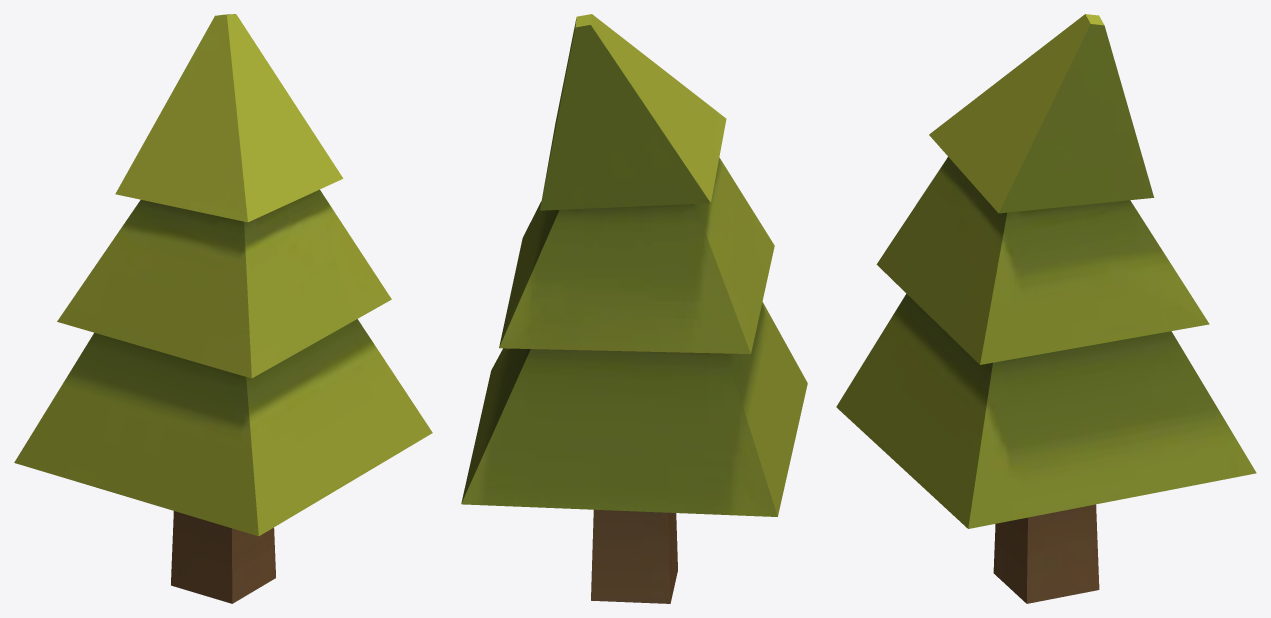
File: 7rTNpk6j01O.glb
The picture shows the model from 3 angles, left to right: view 1: azimuth 30°, elevation 25°; view 2: azimuth 150°, elevation 25°; view 3: azimuth 270°, elevation 25°; orthographic projection. The views are drawn at different scales.
Visible parts, largest first — view 1: pine_tree; view 2: pine_tree; view 3: pine_tree.
Boxes of the visible parts, left/top/right/bottom form: pine_tree: left=14, top=14, right=432, bottom=603; pine_tree: left=461, top=14, right=807, bottom=603; pine_tree: left=836, top=14, right=1256, bottom=603.
Bounding box in the file's own units: 0.6587 × 1 × 0.6587.
Materials: 1 (1 with a texture image).
